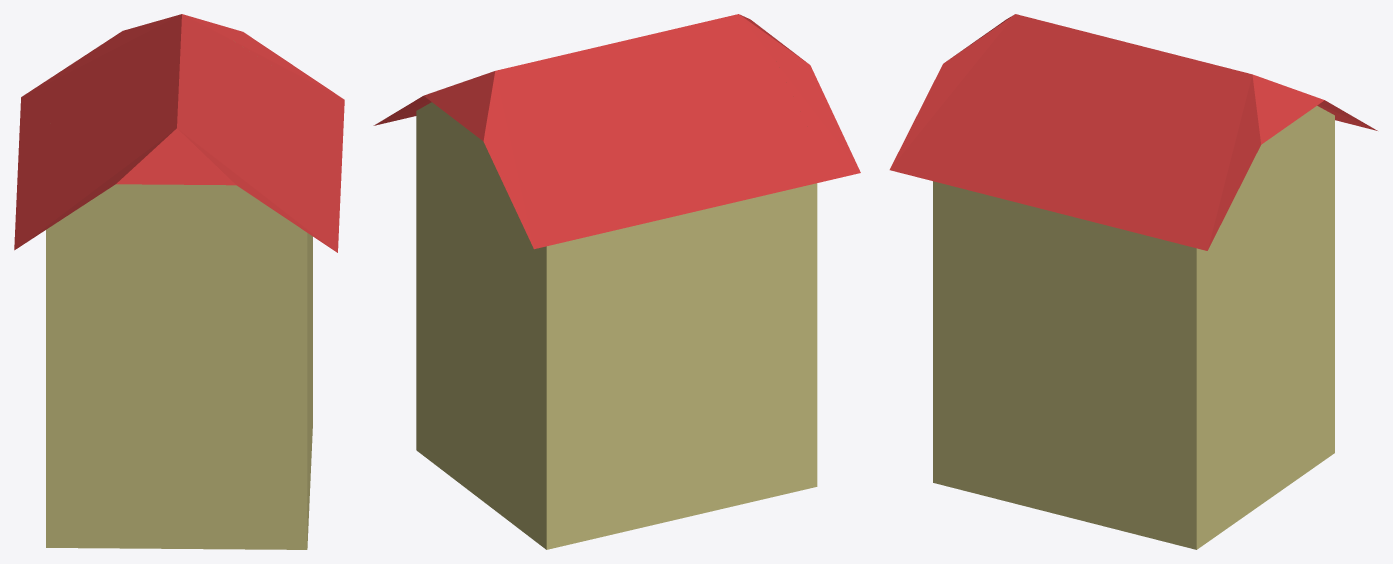
3 renders of one model, left to right at view 1: azimuth 30°, elevation 25°; view 2: azimuth 150°, elevation 25°; view 3: azimuth 270°, elevation 25°, orthographic. The views are drawn at different scales.
Parts seen in each view (by area): view 1: group_5, group_3, group_4; view 2: group_5, group_3, group_4; view 3: group_5, group_3, group_4.
Boxes of the visible parts, x1,y1,x2,y2 form: group_5: (46, 184, 312, 549); group_3: (14, 14, 344, 252); group_4: (14, 20, 342, 249); group_5: (416, 102, 817, 549); group_3: (374, 14, 860, 248); group_4: (375, 16, 860, 248); group_5: (933, 106, 1334, 549); group_3: (890, 14, 1376, 250); group_4: (891, 17, 1377, 250).
Bounding box in the file's own units: 14.93 × 15.36 × 14.69.
